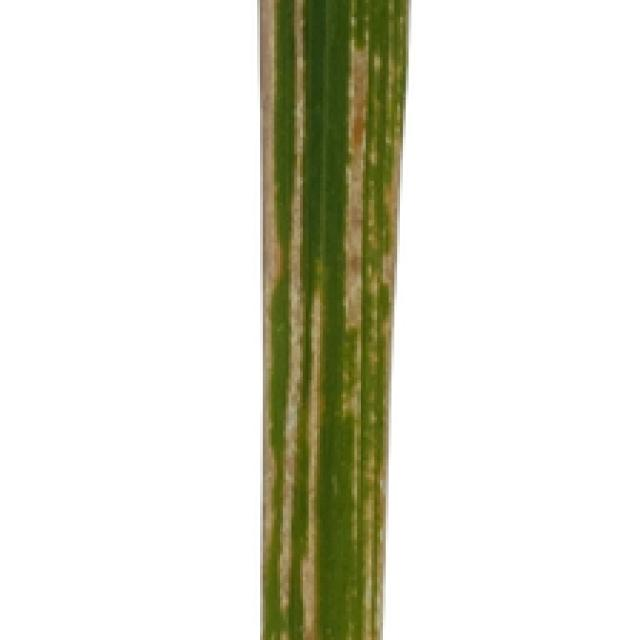Rice___Bacterial_Leaf_Blight: (259, 0, 413, 637)
